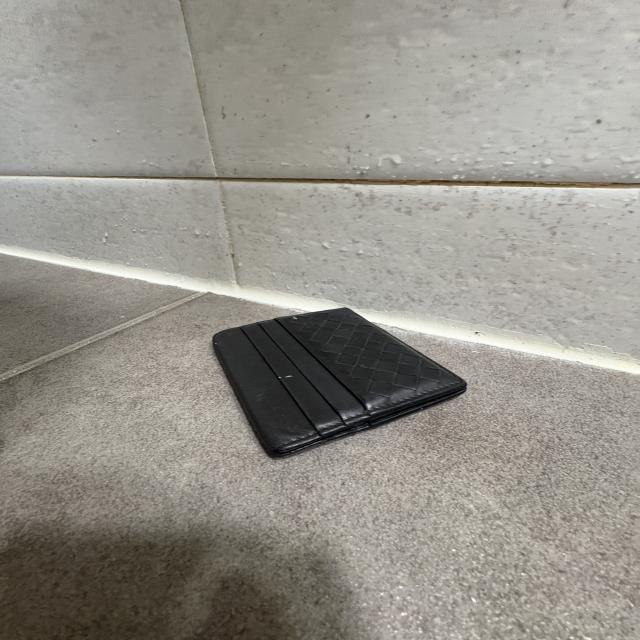wallet: (214, 308, 468, 459)
